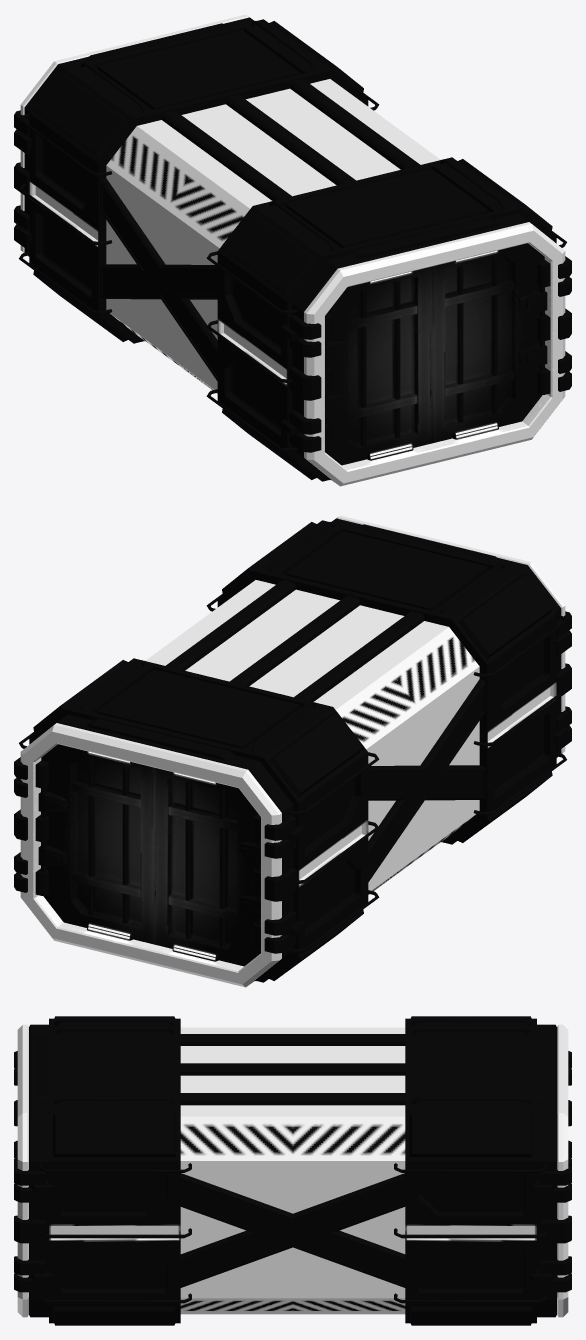
File: shipping_crate.glb
The picture shows the model from 3 angles, top to bottom: view 1: azimuth 30°, elevation 25°; view 2: azimuth 150°, elevation 25°; view 3: azimuth 270°, elevation 25°; orthographic projection. The views are drawn at different scales.
Visible parts, largest first — view 1: shipping_crate; view 2: shipping_crate; view 3: shipping_crate.
Boxes of the visible parts, x1,y1,x2,y2 form: shipping_crate: (14, 14, 571, 486); shipping_crate: (14, 515, 571, 987); shipping_crate: (14, 1016, 571, 1325).
Size of the model in its own units: 13.42 by 10.67 by 23.89.
1 material, 1 textured.
